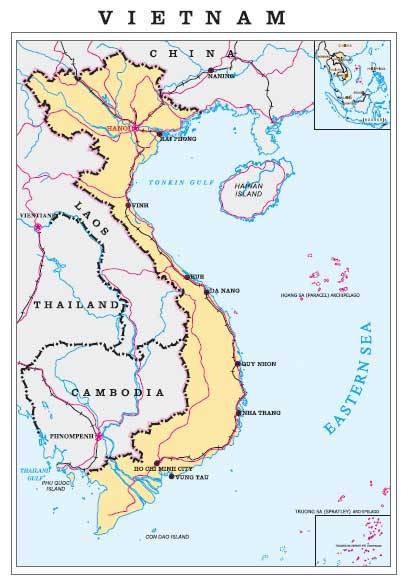Island: (295, 481, 393, 565), (277, 248, 359, 307)
